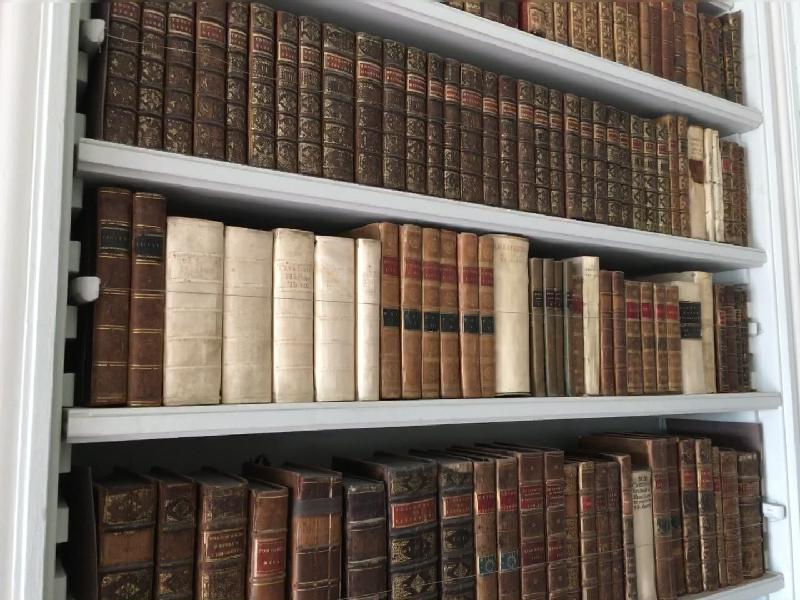Kk4-14: (494, 232, 531, 395)
Kk4-15_16: (528, 255, 555, 401)
Kk4-17_18: (554, 256, 574, 398)
Kk4-1_2: (96, 184, 163, 409)
Kk4-20: (583, 255, 599, 396)
Kk4-21_22: (601, 268, 627, 396)
Kk4-23_26: (626, 279, 680, 396)
Kk4-27: (679, 280, 704, 395)
Kk4-28: (696, 271, 718, 393)
Kk4-3_7: (165, 215, 380, 404)
Kk4-8_13: (381, 221, 495, 398)
